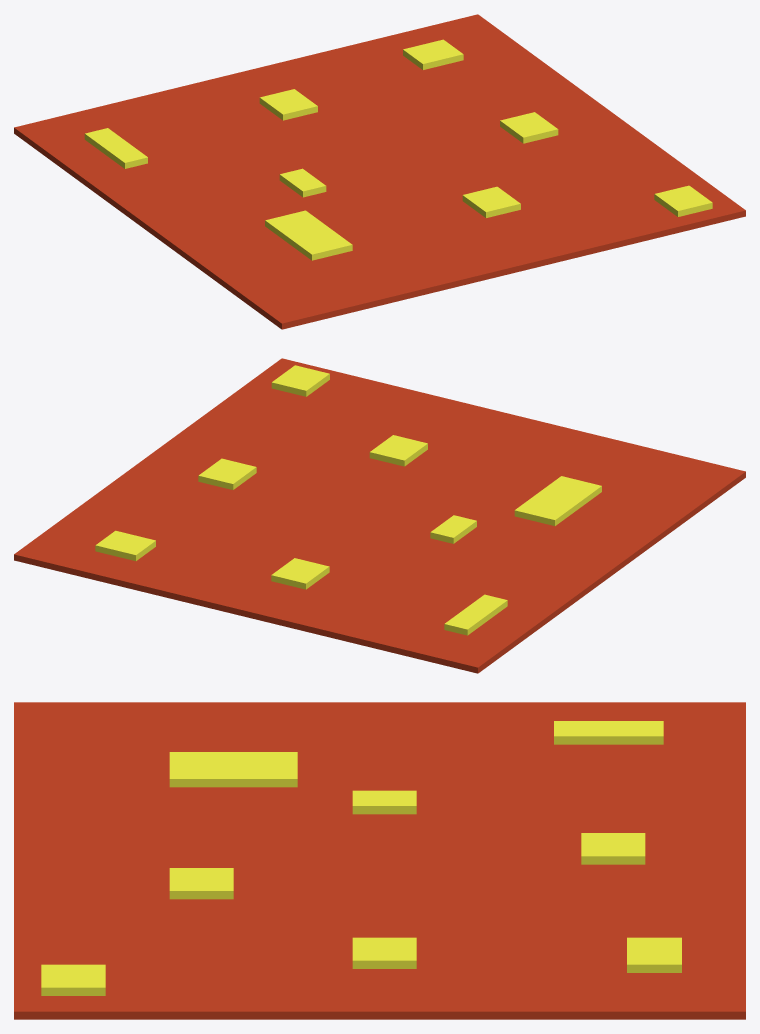
The model's file is Lava.obj.
The picture shows the model from 3 angles, top to bottom: view 1: azimuth 30°, elevation 25°; view 2: azimuth 150°, elevation 25°; view 3: azimuth 270°, elevation 25°; orthographic projection. The views are drawn at different scales.
Size of the model in its own units: 8 by 0.2 by 8.
1 material, 1 textured.
